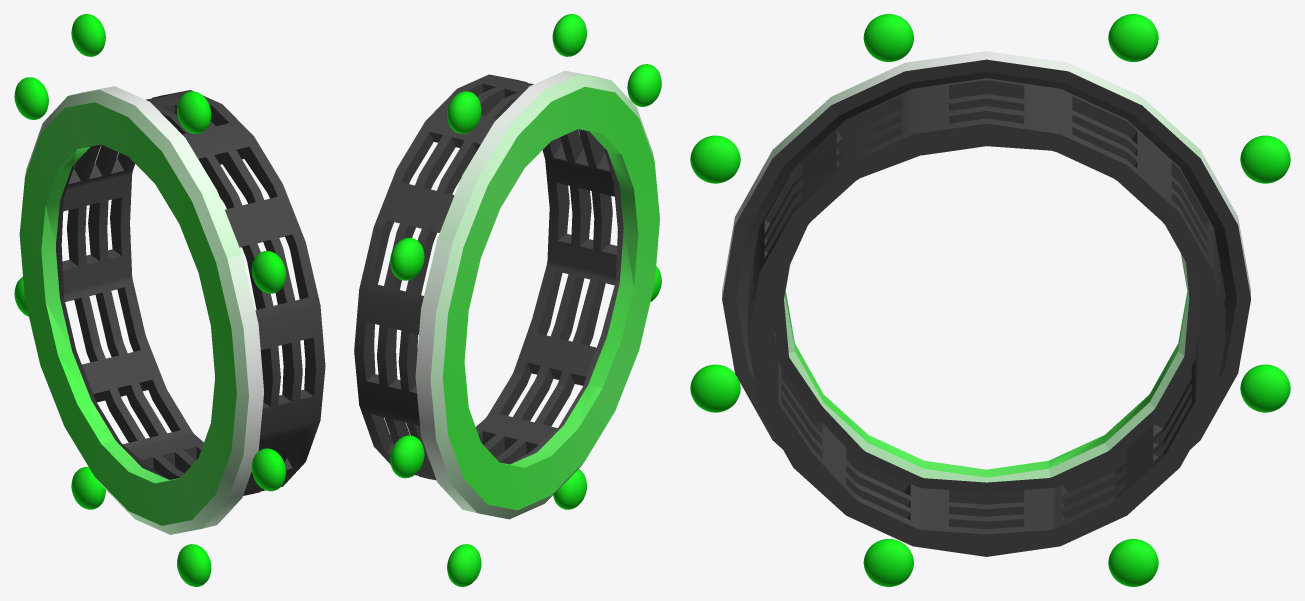
Rendered from portal_3d.fbx.
3 renders of one model, left to right at view 1: azimuth 30°, elevation 25°; view 2: azimuth 150°, elevation 25°; view 3: azimuth 270°, elevation 25°, orthographic. The views are drawn at different scales.
Visible parts, largest first — view 1: pCylinder16; view 2: pCylinder16; view 3: pCylinder16.
Part boxes in pixels (x1,y1,x2,y2): pCylinder16: (14,14,325,586); pCylinder16: (354,14,661,586); pCylinder16: (690,14,1290,586).
Bounding box in the file's own units: 5.01 × 25 × 23.84.
Materials: 1 (1 with a texture image).
